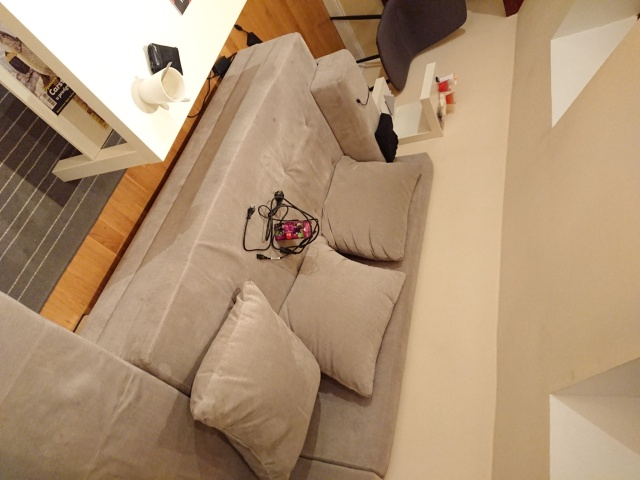Franck Black Currant Tea 60g: (271, 218, 314, 242)
